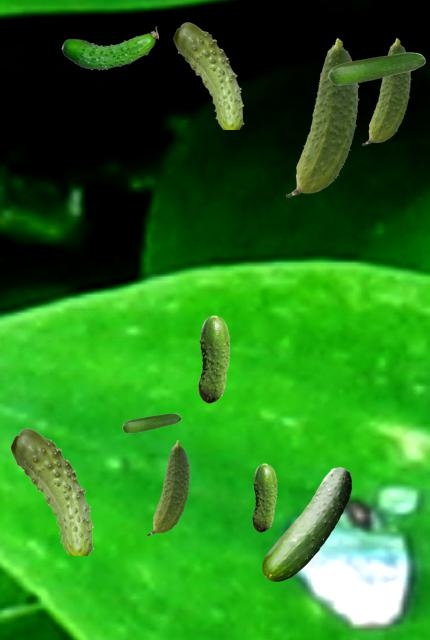cucumber: (286, 38, 358, 196), (10, 428, 93, 554), (262, 467, 350, 580), (173, 22, 243, 128), (362, 38, 410, 144), (61, 26, 157, 69), (147, 440, 189, 534), (328, 52, 424, 84), (198, 315, 229, 402), (252, 463, 276, 531), (122, 413, 180, 432)
